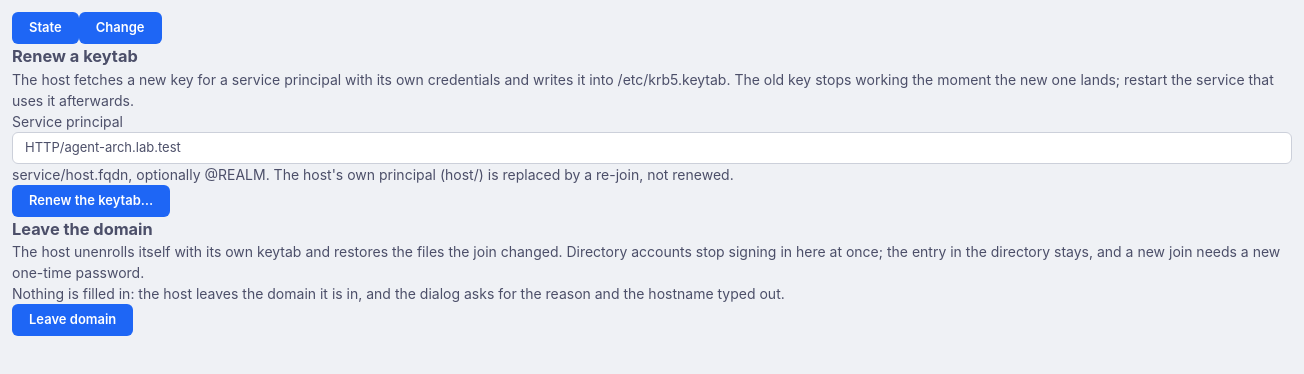
a host's identity › refuses a principal that is the host's own
This screenshot has width=1304, height=374.
Type "host/agent-arch.lab.test" into the field with test id "principal".
click(652, 148); type("host/agent-arch.lab.test")  # box [12,132,1292,164]
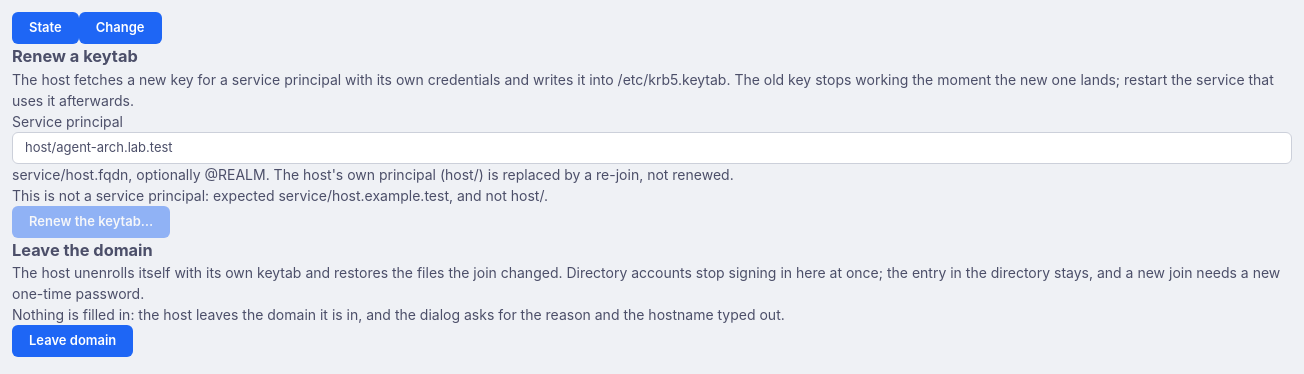
Result: the text "not a service principal" is shown at [12,187,548,204]
Result: the button with test id "renew" is disabled at [12,206,170,238]
